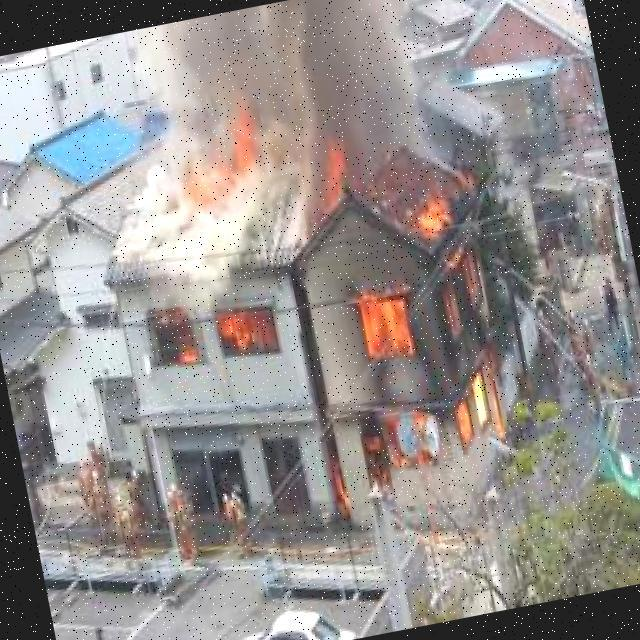Fire: (309, 150, 519, 482), (146, 297, 281, 371), (211, 96, 266, 185)
